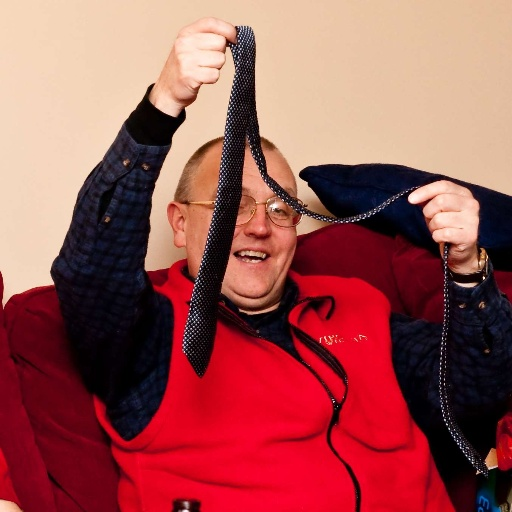hand: (158, 13, 240, 105), (422, 183, 490, 257)
